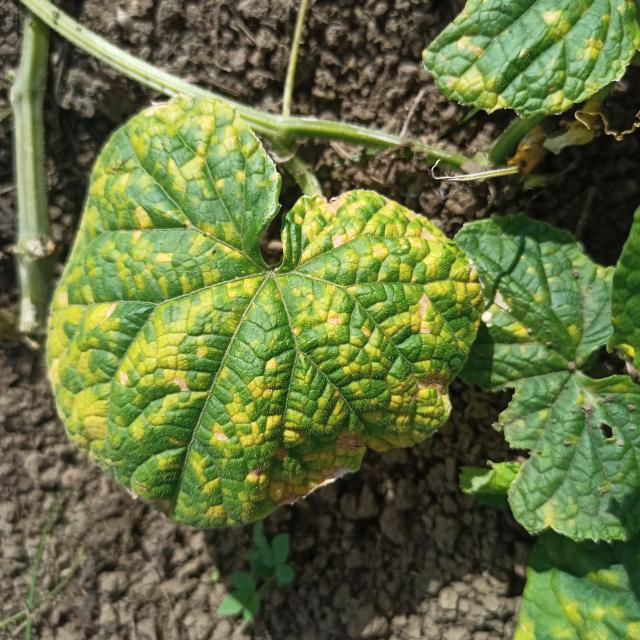disease_cucumber: (47, 99, 473, 531)
